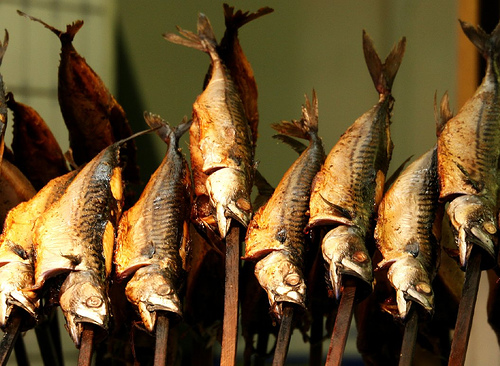fish: (434, 18, 499, 252)
